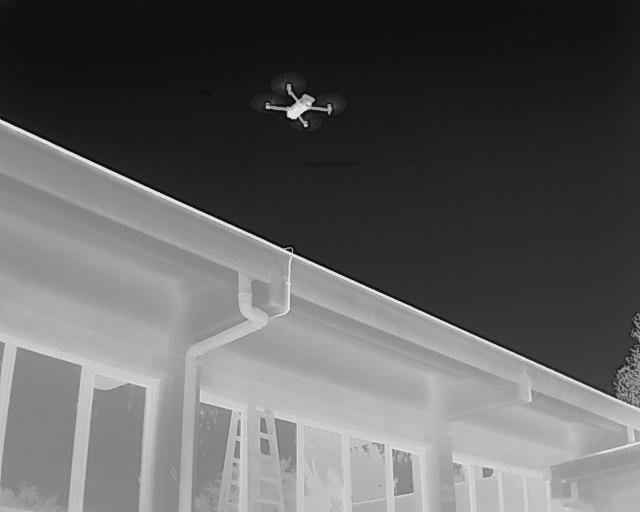drone: (244, 68, 349, 143)
